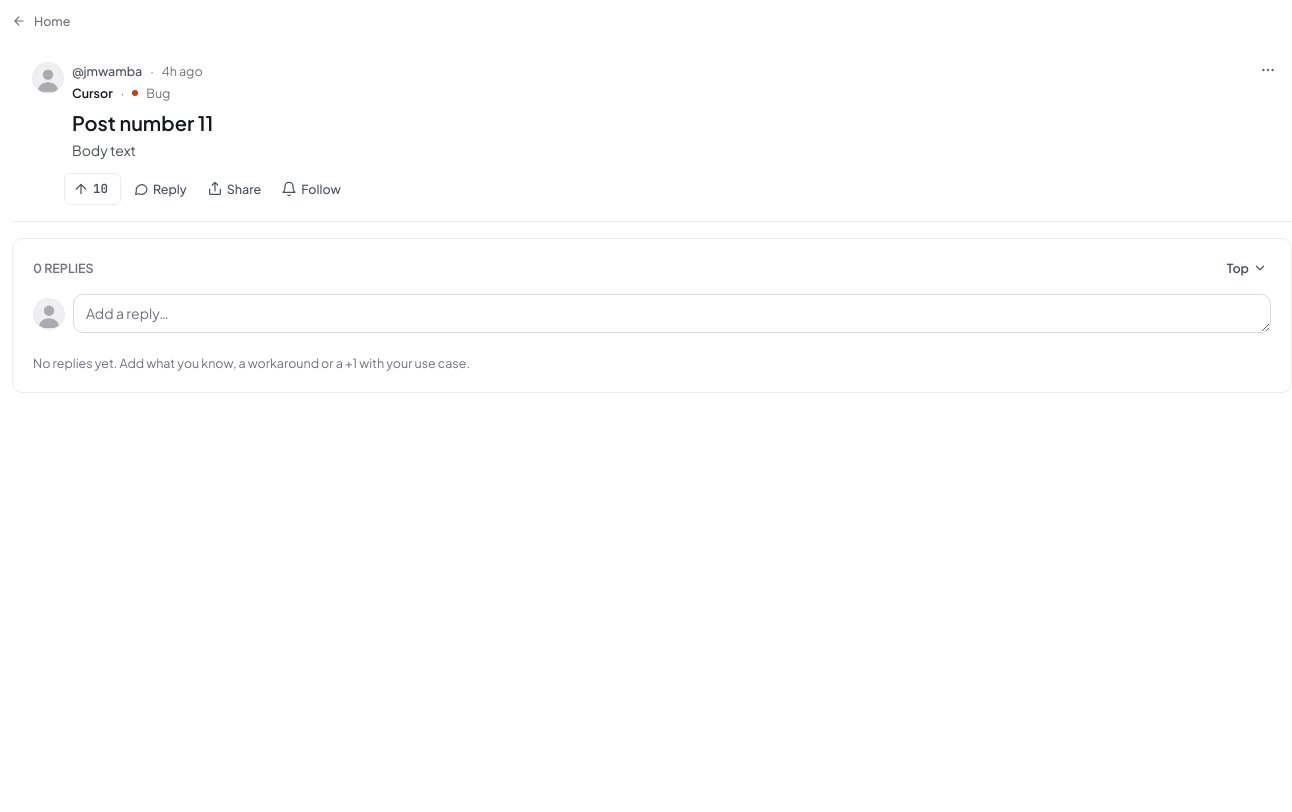
Scenario: replies › posts a reply, adds it to the thread and follows the post
This screenshot has width=1292, height=812.
Expected: the text "No replies yet" is shown, [33,354,470,370]
Focus the text box labelled "Add a reply": (672, 313) [73,294,1271,332]
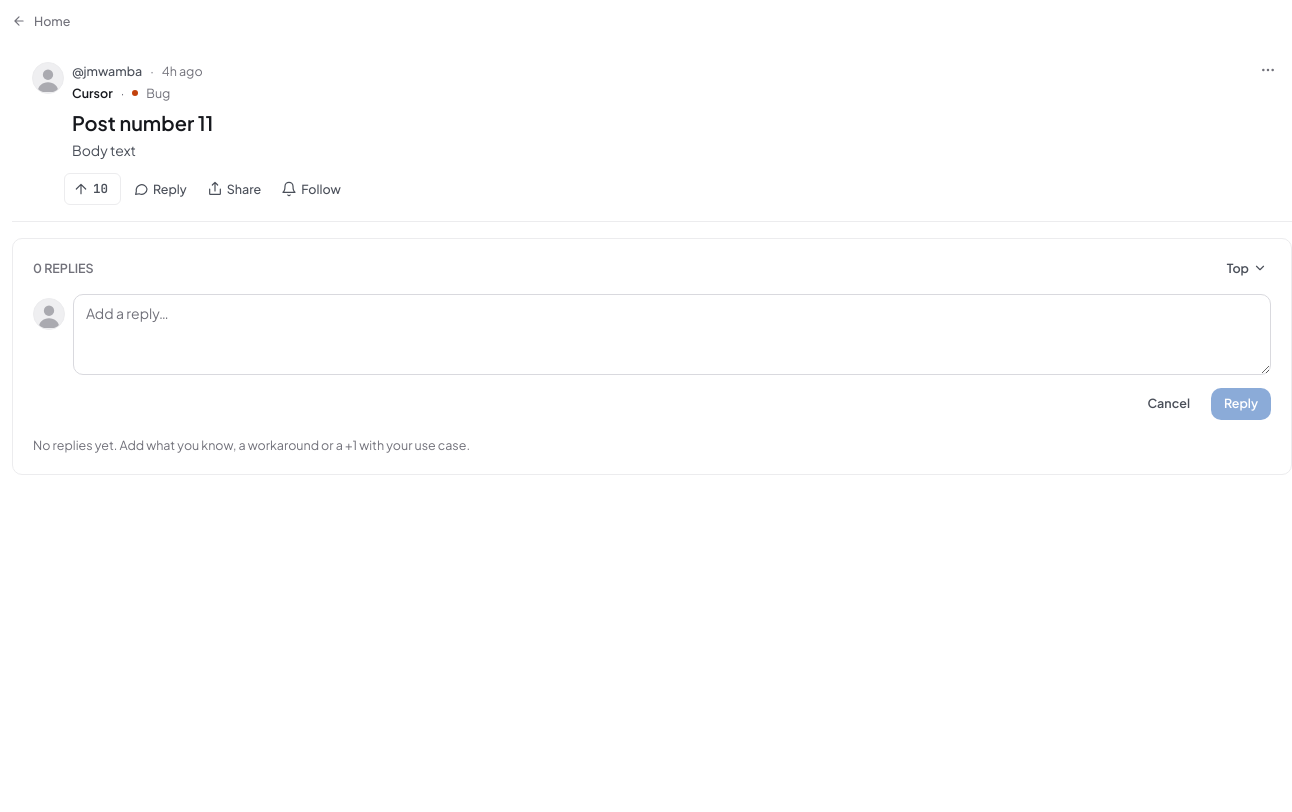
In the text box labelled "Add a reply": (672, 334) [73,294,1271,374], type "  Workaround: pin the working directory.  "
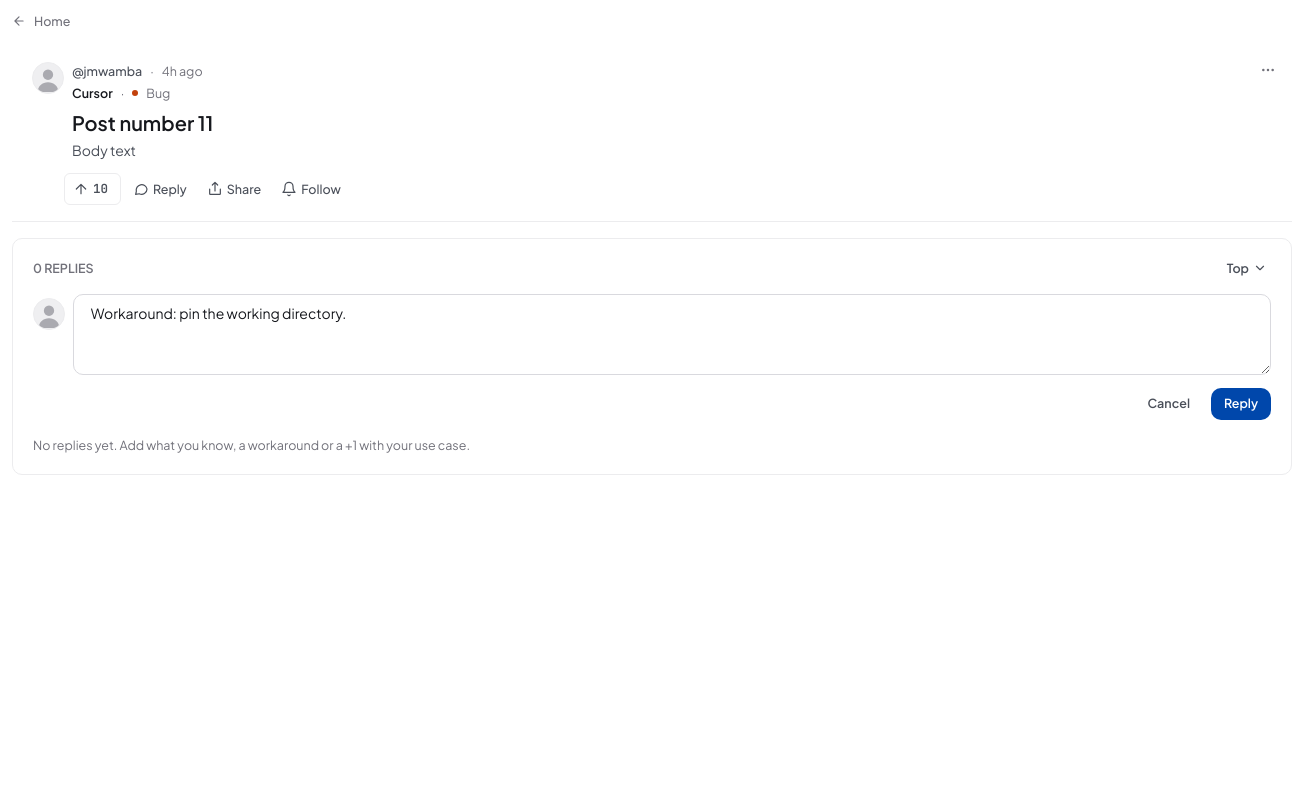
Click the button "Reply": (1241, 404) [1211,388,1271,420]
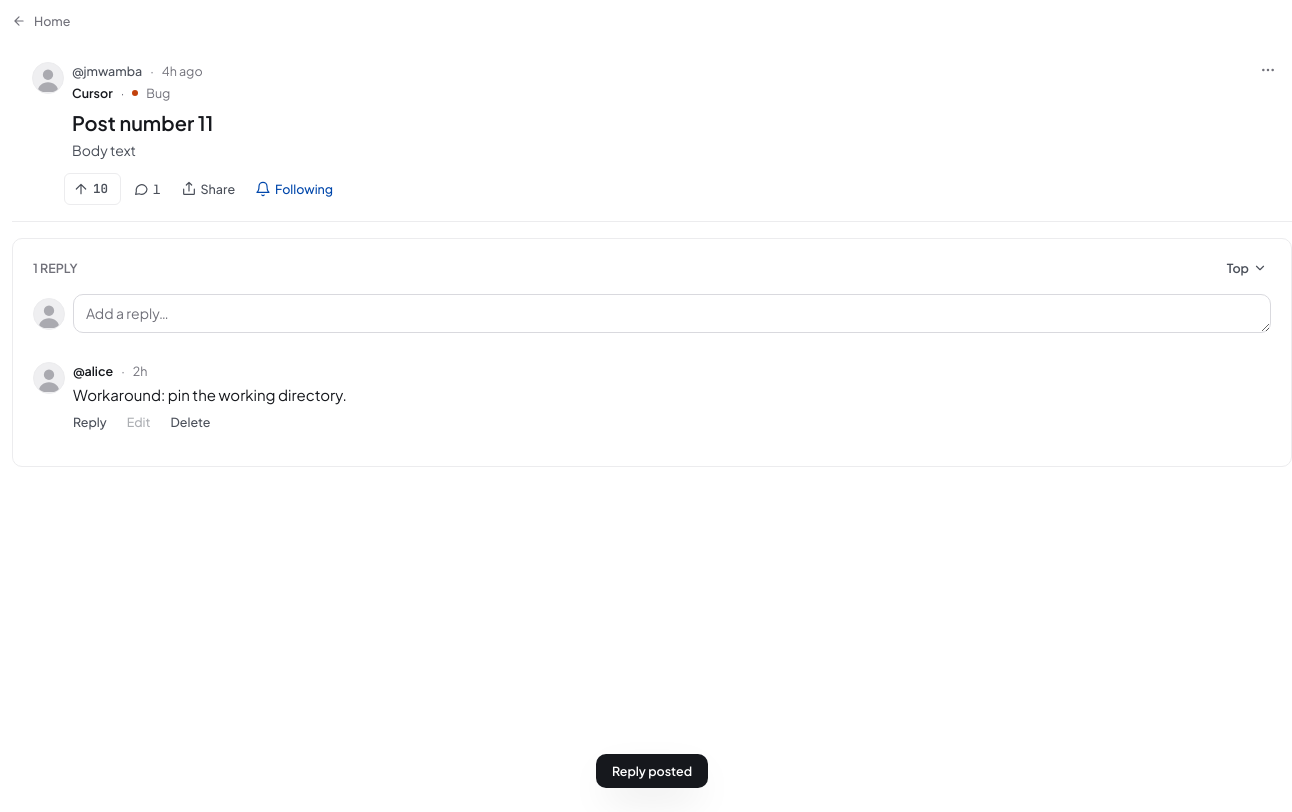
Expected: the text "Workaround: pin the working directory." is shown, [73,385,347,404]
Expected: the text "Reply posted" is shown, [612,762,692,780]
Expected: the heading "1 reply" is shown, [33,259,78,278]
